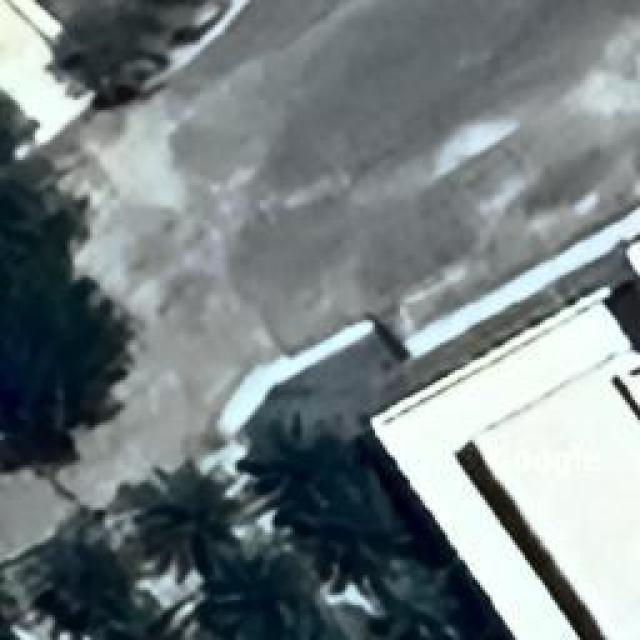PalmTree: (95, 32, 439, 624), (301, 477, 411, 575), (128, 467, 232, 565), (206, 565, 329, 640), (30, 531, 125, 619), (255, 418, 348, 486), (0, 0, 73, 65)
